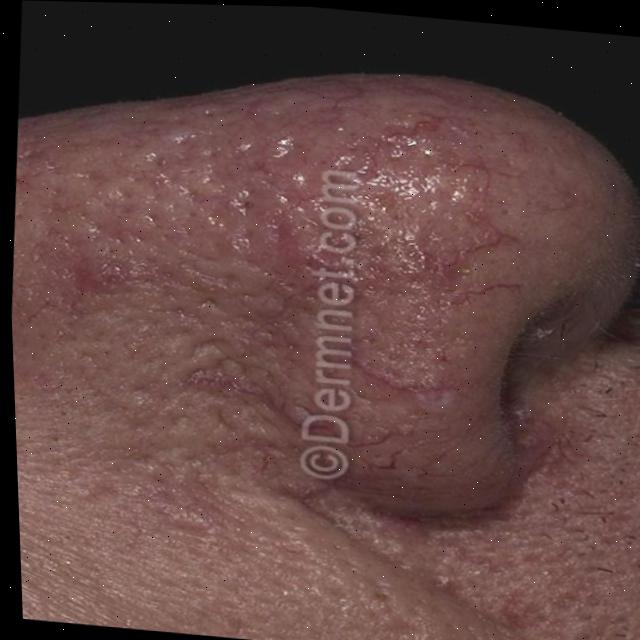Rosacea: (32, 55, 549, 496)
